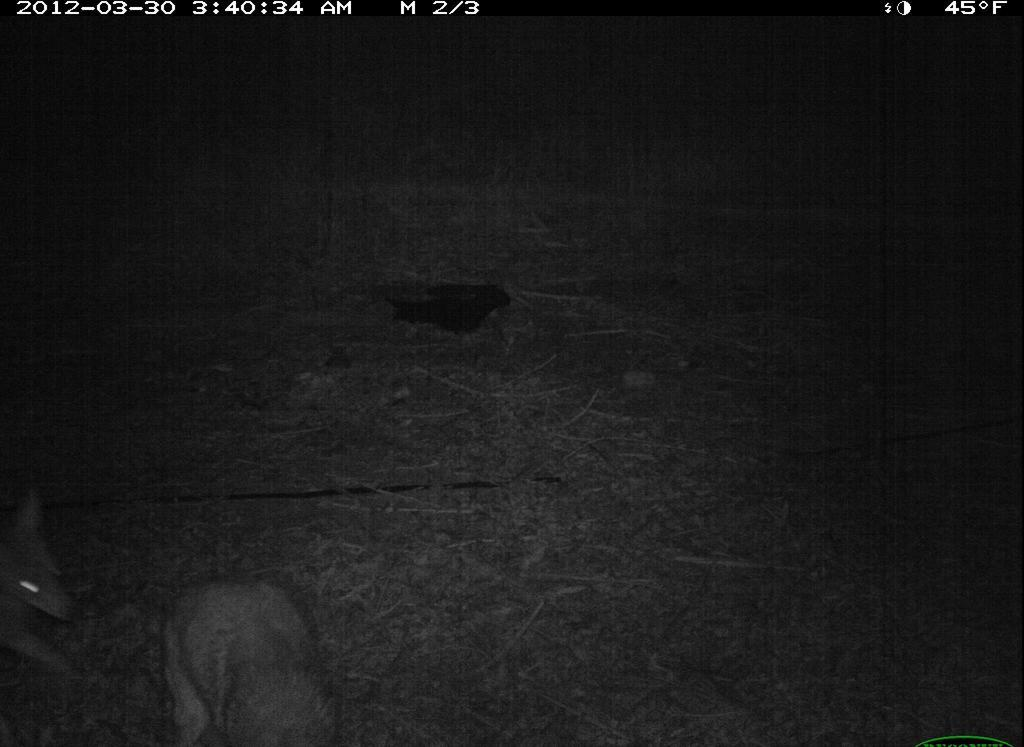coyote: (146, 574, 342, 745), (3, 491, 94, 703)
